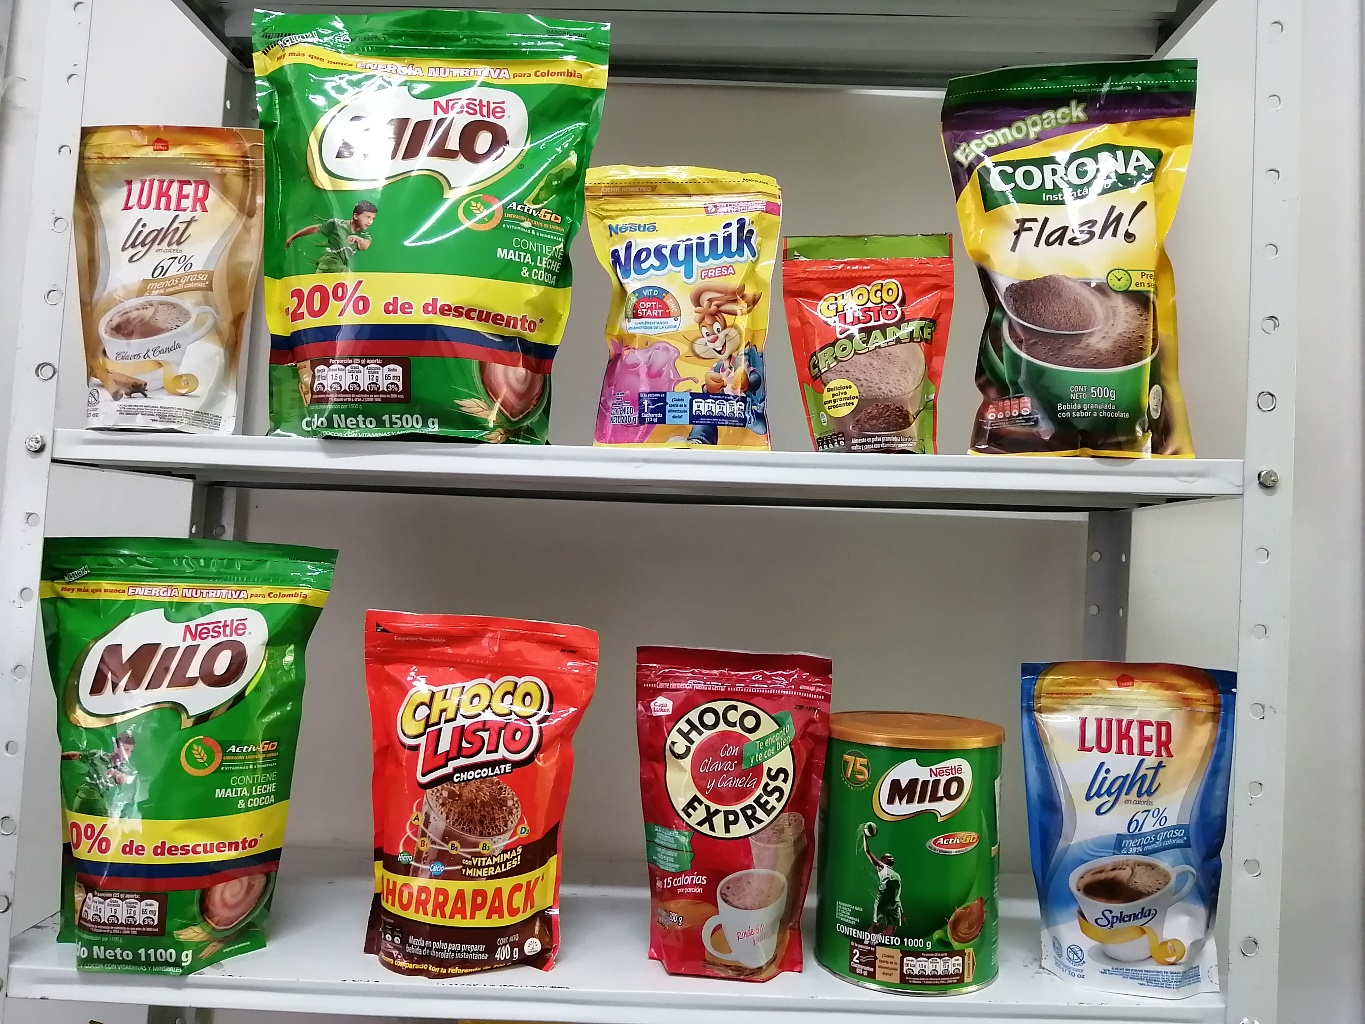COL0170102DYP10000: (790, 232, 955, 455)
COL0170103DYP40000: (358, 601, 602, 979)
COL0170305DYP20000: (577, 150, 787, 466)
